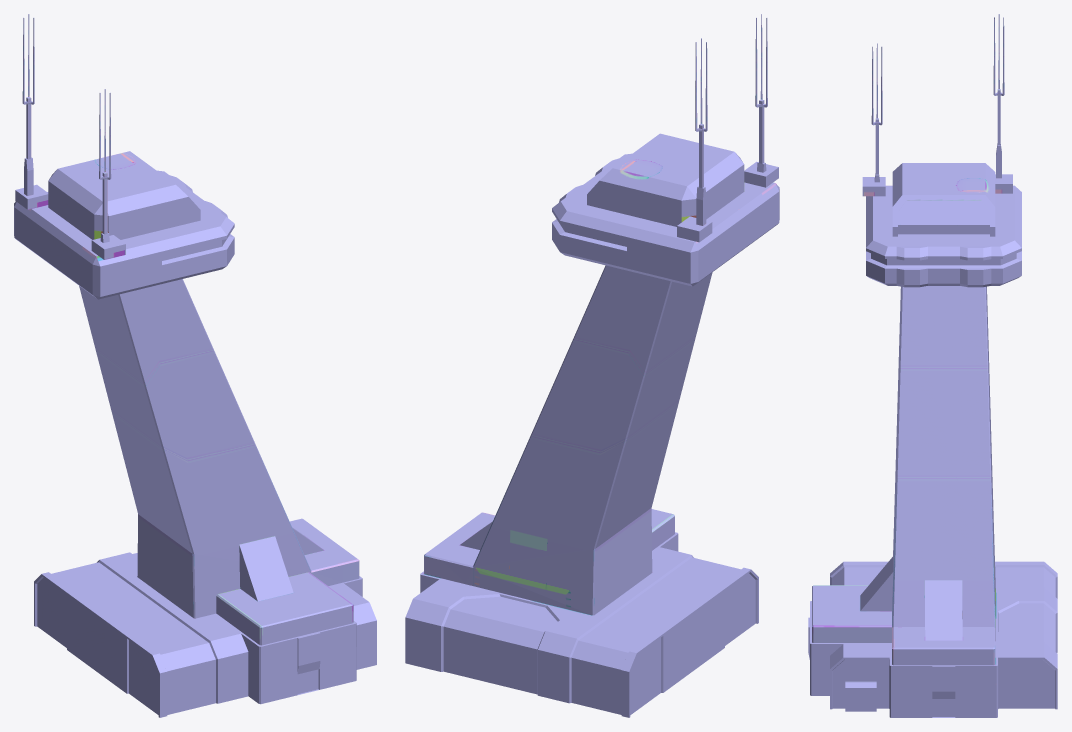
The model's file is Starport_Tower.fbx.
The picture shows the model from 3 angles, left to right: view 1: azimuth 30°, elevation 25°; view 2: azimuth 150°, elevation 25°; view 3: azimuth 270°, elevation 25°; orthographic projection. The views are drawn at different scales.
Visible parts, largest first — view 1: Starport_Tower; view 2: Starport_Tower; view 3: Starport_Tower.
Boxes of the visible parts, x1,y1,x2,y2 form: Starport_Tower: [14, 14, 376, 717]; Starport_Tower: [405, 14, 779, 717]; Starport_Tower: [808, 14, 1057, 717].
Size of the model in its own units: 282 by 616 by 240.
